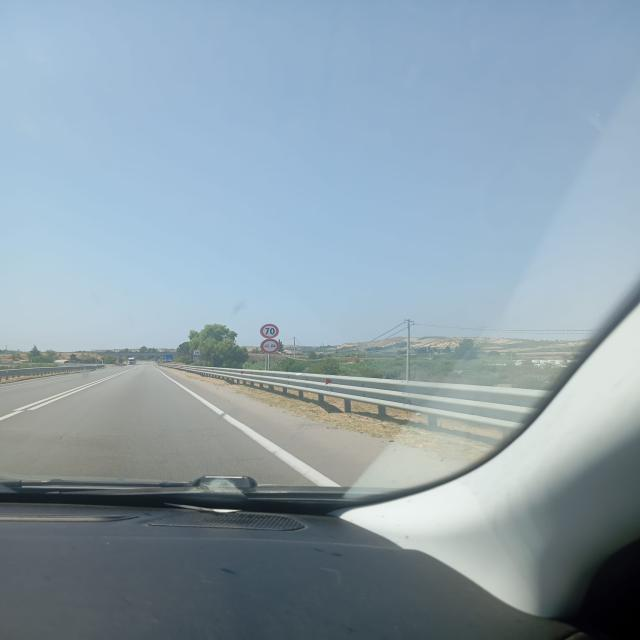forb_overtake: (260, 339, 279, 354)
forb_speed_over_70: (260, 324, 279, 339)
